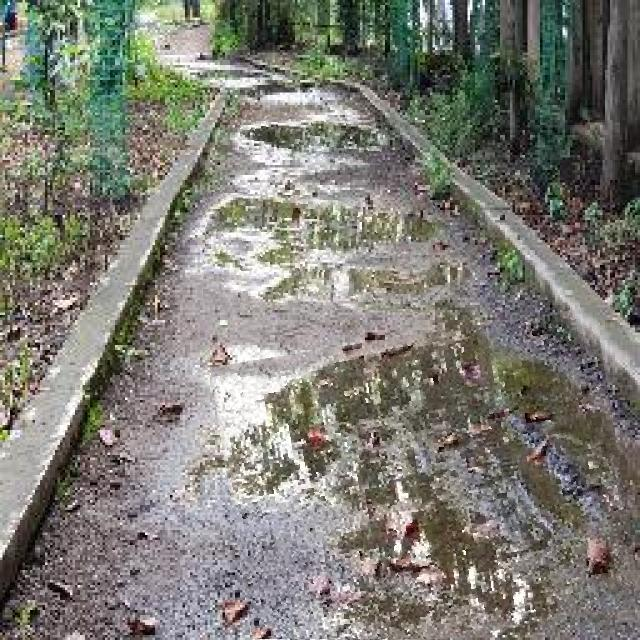puddle: (222, 321, 633, 640), (204, 196, 434, 311), (240, 113, 385, 162)
